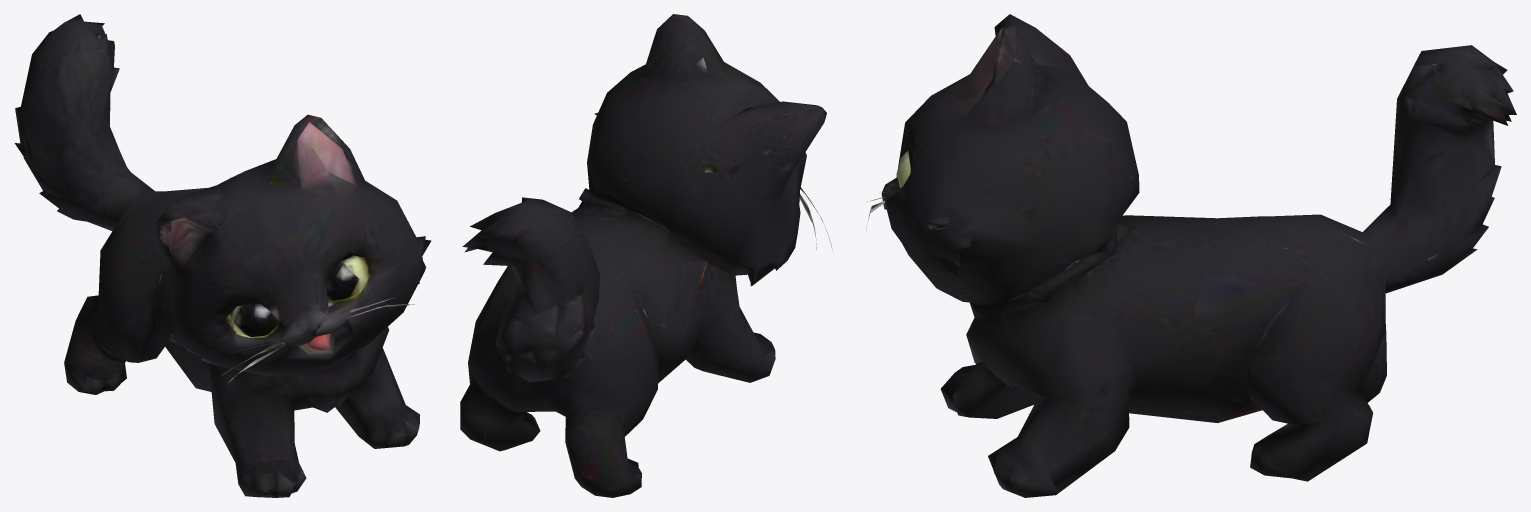
Rendered from gato-preto-m35i.glb.
3 views of the same model, side by side, from view 1: azimuth 30°, elevation 25°; view 2: azimuth 150°, elevation 25°; view 3: azimuth 270°, elevation 25° (orthographic). The views are drawn at different scales.
Visible parts, largest first — view 1: gato_preto, rabo, pata_fd, pata_td, pata_fe; view 2: gato_preto, rabo, pata_td, pata_fd, pata_te; view 3: gato_preto, pata_fe, rabo, pata_te, pata_fd, pata_td.
Boxes of the visible parts, x1=… form: gato_preto: x1=101, y1=114, x2=431, y2=412; rabo: x1=14, y1=14, x2=154, y2=231; pata_fd: x1=207, y1=362, x2=324, y2=497; pata_td: x1=64, y1=214, x2=164, y2=394; pata_fe: x1=335, y1=327, x2=419, y2=448; gato_preto: x1=475, y1=14, x2=832, y2=411; rabo: x1=462, y1=197, x2=600, y2=381; pata_td: x1=547, y1=307, x2=658, y2=497; pata_fd: x1=685, y1=262, x2=775, y2=382; pata_te: x1=460, y1=267, x2=540, y2=451; gato_preto: x1=866, y1=14, x2=1385, y2=422; pata_fe: x1=966, y1=249, x2=1139, y2=497; rabo: x1=1363, y1=45, x2=1516, y2=293; pata_te: x1=1218, y1=249, x2=1376, y2=481; pata_fd: x1=940, y1=361, x2=1039, y2=418; pata_td: x1=1357, y1=330, x2=1386, y2=402.
Size of the model in its own units: 0.1563 by 0.2017 by 0.2882.
1 material, 1 textured.
